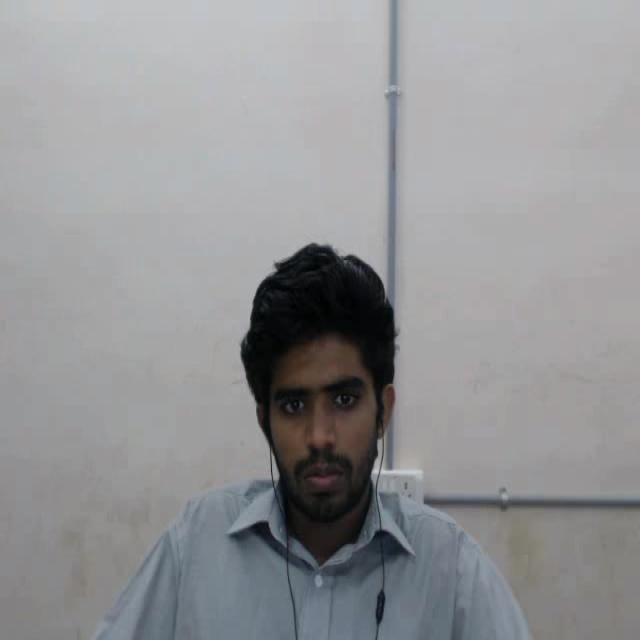Engaged: (221, 224, 415, 548)
